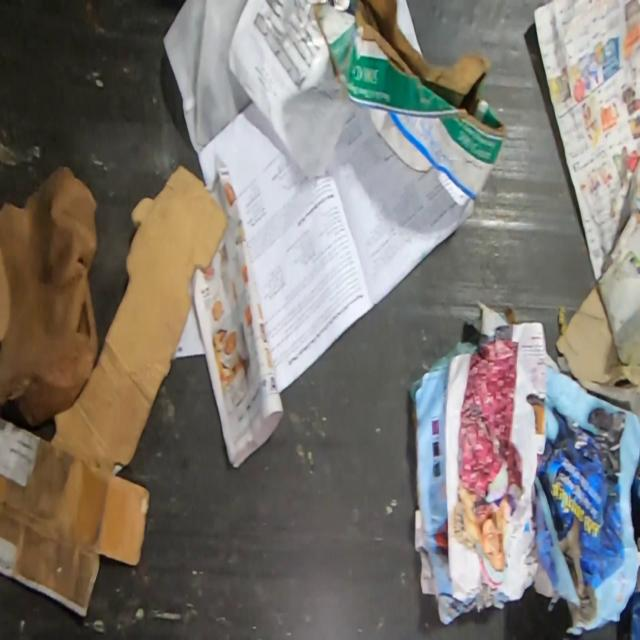cardboard: (49, 161, 234, 474), (308, 0, 508, 205), (0, 414, 154, 618), (553, 282, 640, 393)
